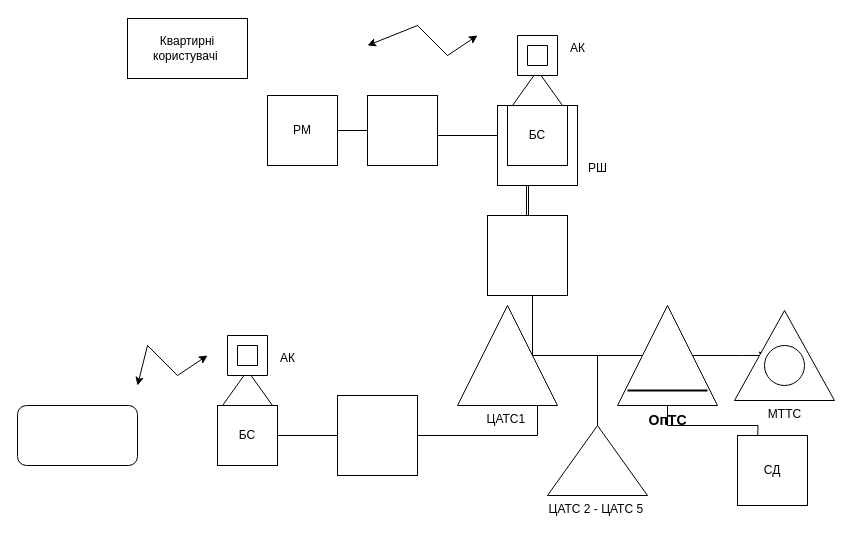
The diagram is 852 pixels wide and 534 high, and some of its shapes have lost their labels. Here are the shapes that lost their labels. From the top down, the box of each, then its label:
(366, 94, 438, 166): РК
(486, 214, 568, 296): КБС
(16, 404, 138, 466): Офісні користувачі
(336, 394, 418, 476): МОЛЗ
